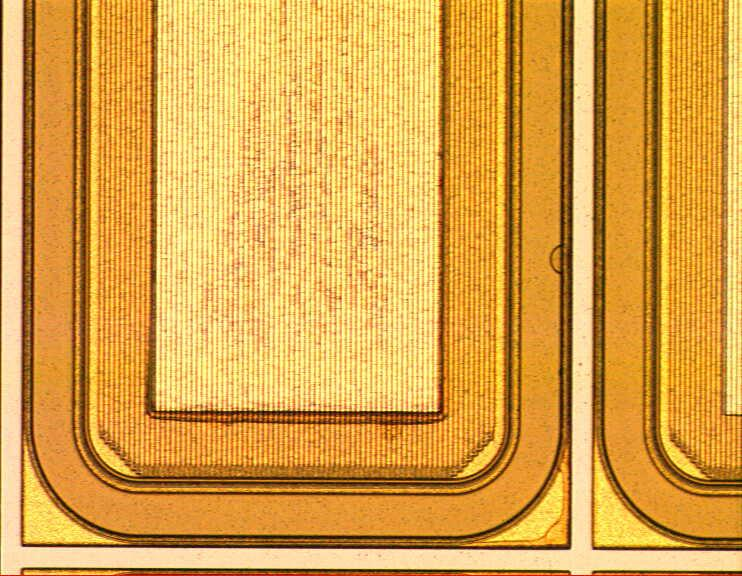SEZ BURNT: (147, 1, 454, 426)
